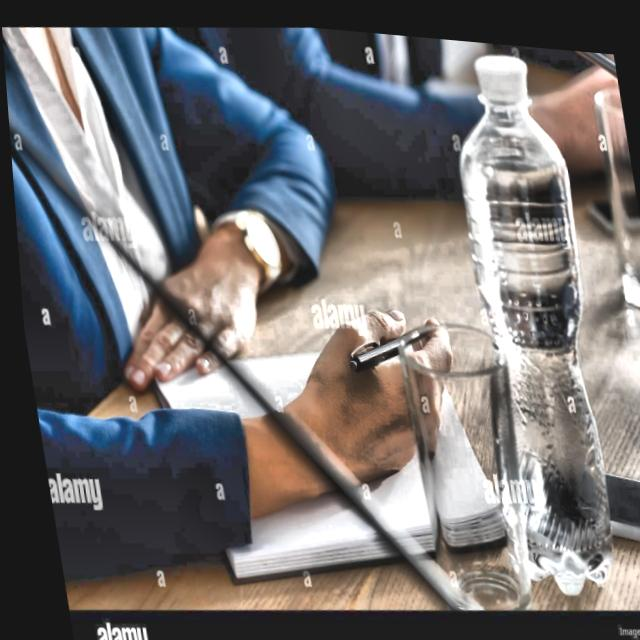Bottles: (424, 30, 634, 605)
